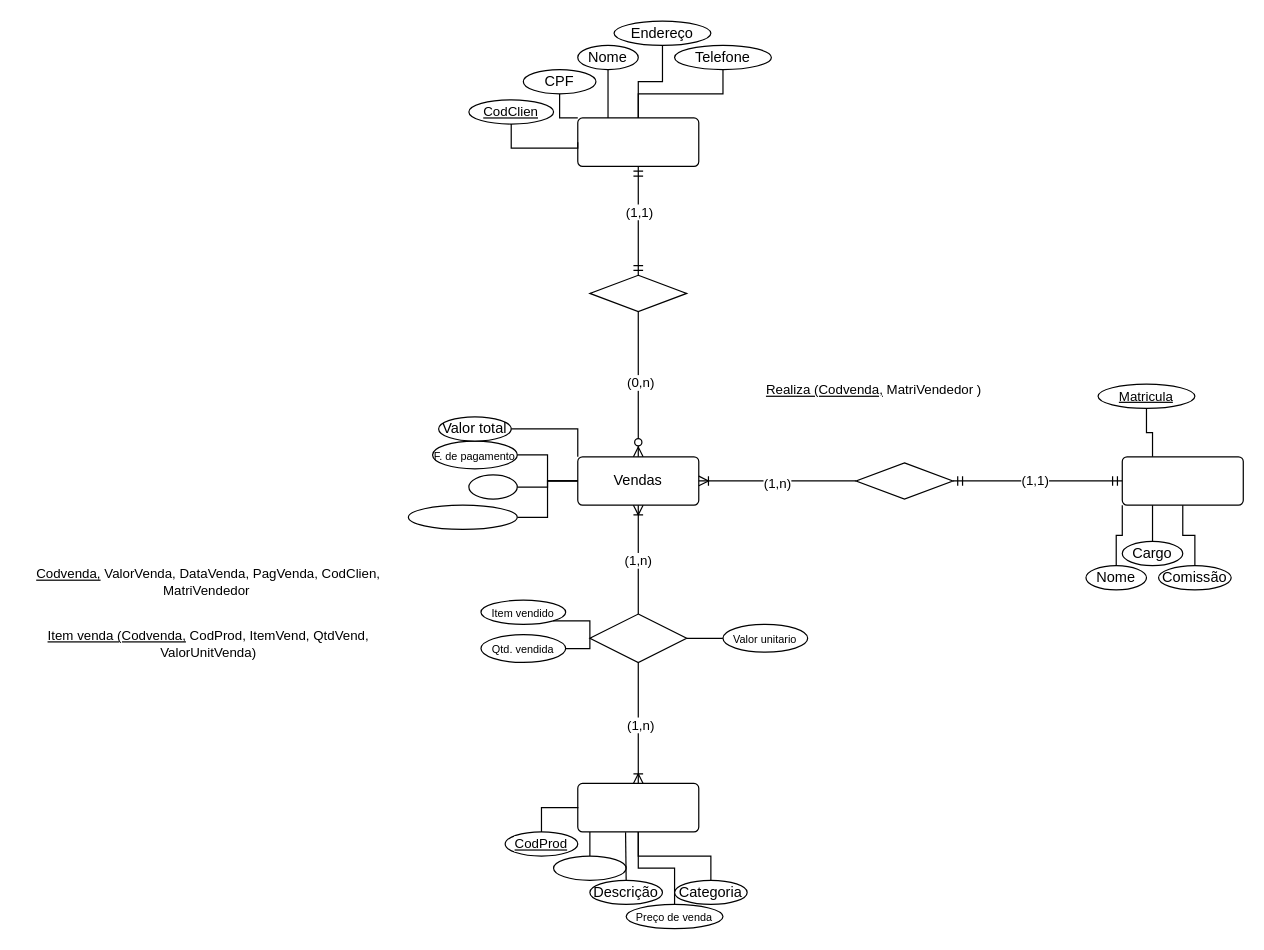
This 1264x950 diagram has some shape labels left out. The box of each missing label's shape, as (x1, y1, x2, y2) in pixels:
Clientes: (577, 117, 699, 166)
Codigo: (407, 504, 517, 529)
Data: (468, 474, 517, 499)
Efetua: (589, 274, 687, 312)
Estoque: (552, 855, 626, 880)
Item venda: (589, 613, 687, 662)
Produtos: (577, 782, 699, 832)
Realiza: (855, 462, 953, 499)
Vendedores: (1121, 456, 1243, 505)
